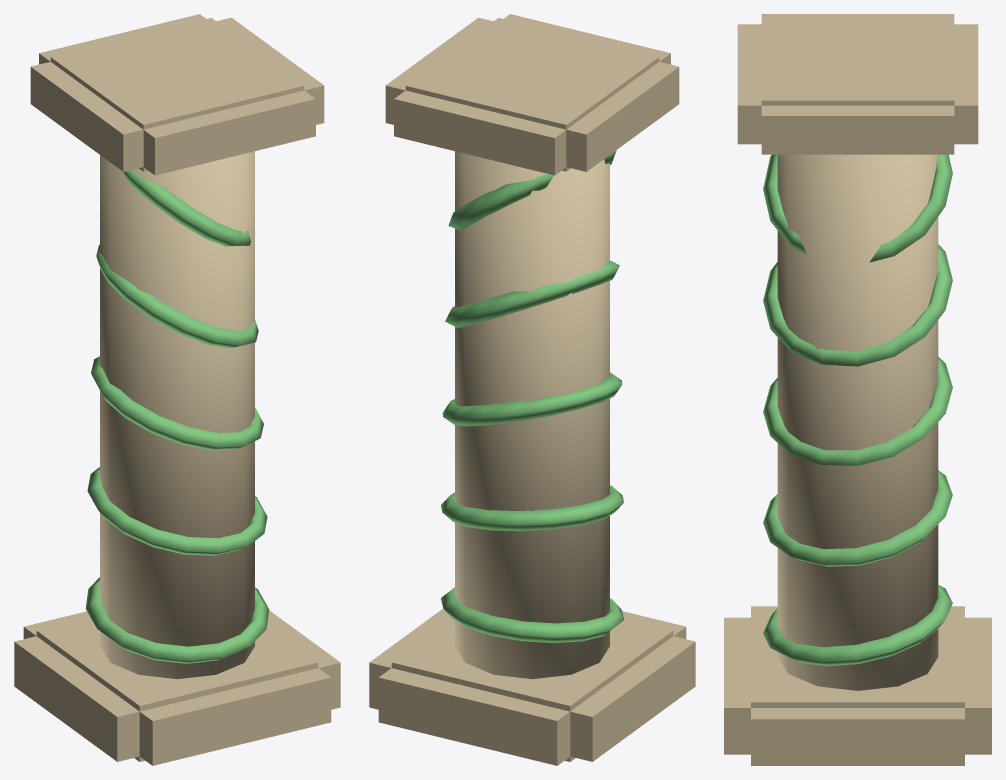
The model's file is env_jungle_vine_pillar.glb.
The picture shows the model from 3 angles, left to right: view 1: azimuth 30°, elevation 25°; view 2: azimuth 150°, elevation 25°; view 3: azimuth 270°, elevation 25°; orthographic projection. The views are drawn at different scales.
Parts seen in each view (by area): view 1: box; view 2: box; view 3: box.
Boxes of the visible parts, bbox=[...] form: box: bbox=[14, 14, 340, 765]; box: bbox=[369, 14, 695, 765]; box: bbox=[724, 14, 991, 765].
Size of the model in its own units: 1 by 2.7 by 1.
